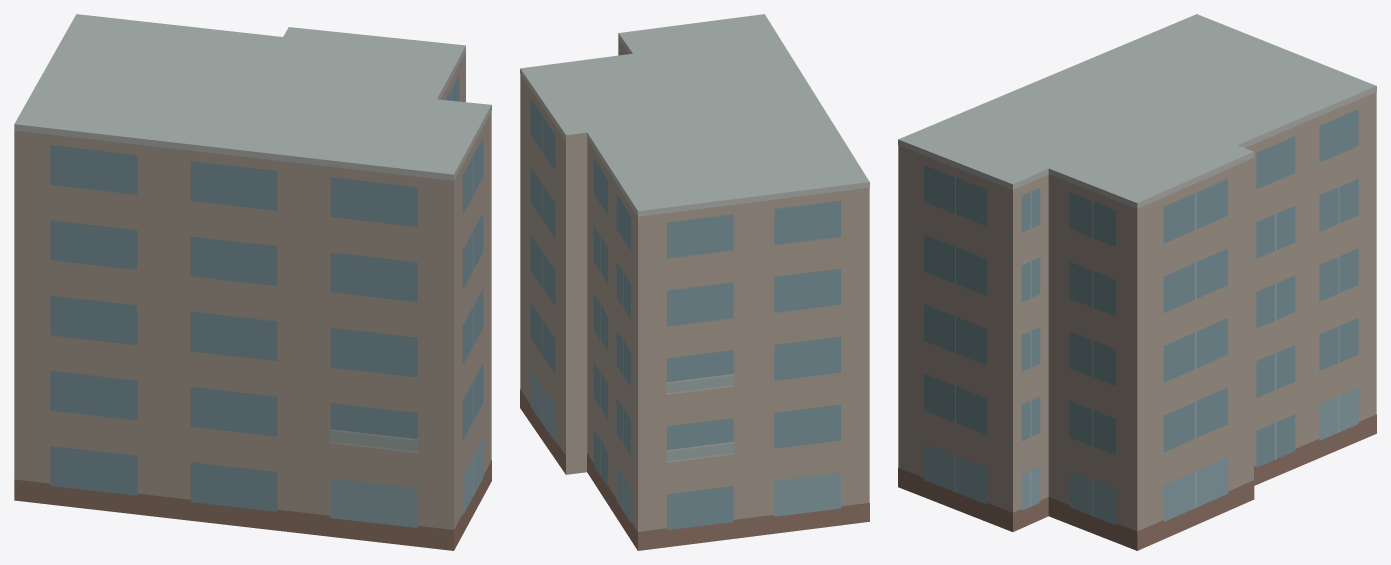
Rendered from survey-upis-33024614.glb.
3 views of the same model, side by side, from view 1: azimuth 30°, elevation 25°; view 2: azimuth 150°, elevation 25°; view 3: azimuth 270°, elevation 25° (orthographic). The views are drawn at different scales.
Parts seen in each view (by area): view 1: survey-upis-33024614.tmp; view 2: survey-upis-33024614.tmp; view 3: survey-upis-33024614.tmp.
Boxes of the visible parts, x1,y1,x2,y2 form: survey-upis-33024614.tmp: (14,14,491,550); survey-upis-33024614.tmp: (520,14,869,550); survey-upis-33024614.tmp: (898,14,1376,550).
Bounding box in the file's own units: 17.16 × 14.7 × 18.35.
